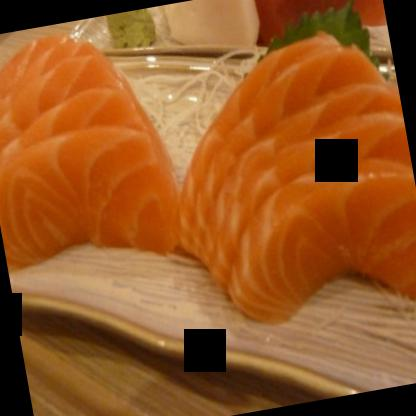salmon: (148, 20, 415, 339), (0, 19, 186, 291)
